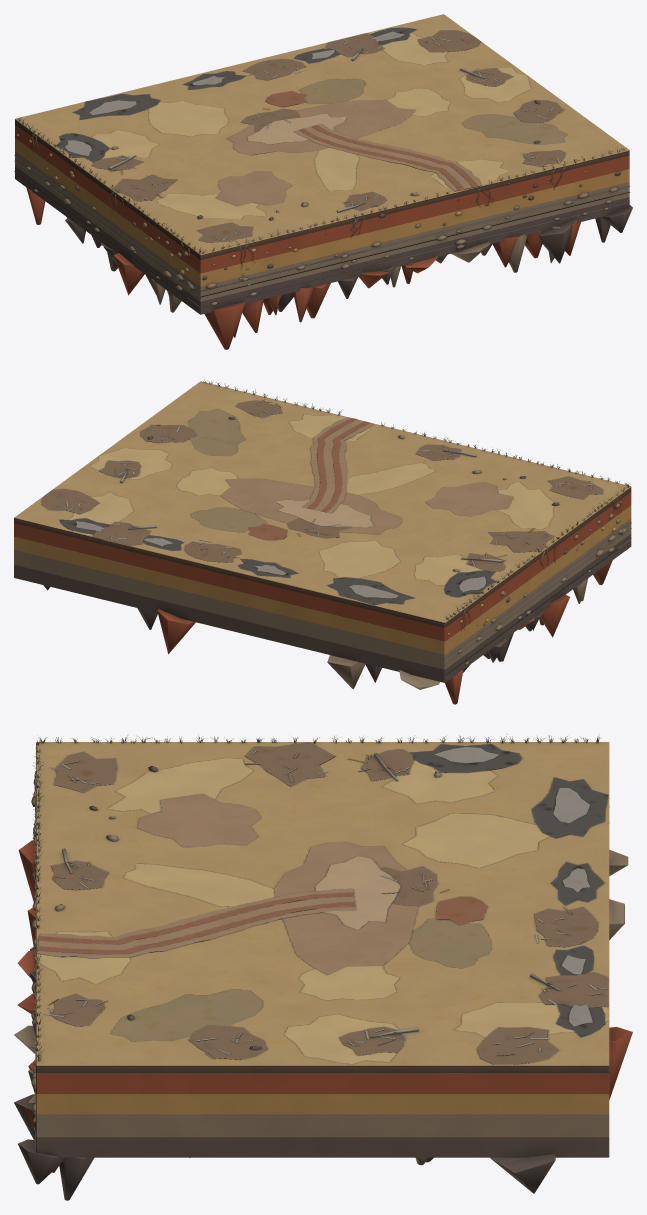
Rendered from farm_slab.glb.
3 renders of one model, top to bottom at view 1: azimuth 30°, elevation 25°; view 2: azimuth 150°, elevation 25°; view 3: azimuth 270°, elevation 25°, orthographic. The views are drawn at different scales.
Parts seen in each view (by area): view 1: farm_slab; view 2: farm_slab; view 3: farm_slab.
Boxes of the visible parts, x1,y1,x2,y2 form: farm_slab: (14,14,632,349); farm_slab: (14,380,631,704); farm_slab: (14,734,632,1200).
Bounding box in the file's own units: 50.4 × 11.48 × 38.86.
Materials: 1 (1 with a texture image).
